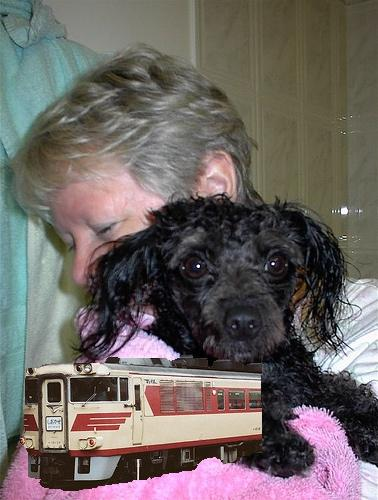tampered: (21, 356, 262, 491)
